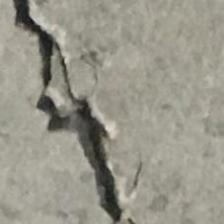Crack: (3, 0, 148, 224)
